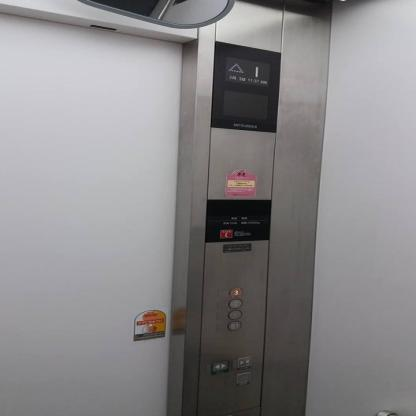1: (227, 309, 243, 319)
2: (227, 299, 243, 308)
3: (227, 287, 243, 298)
B1: (227, 321, 241, 330)
call: (218, 228, 232, 238)
close: (235, 355, 251, 369)
empty: (235, 372, 251, 384)
led: (210, 39, 280, 133), (202, 198, 272, 216)
open: (210, 360, 229, 372)
